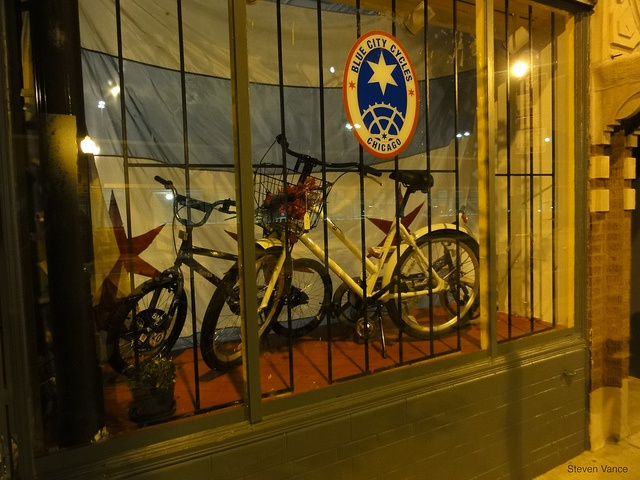non-vehicle: (213, 135, 481, 370), (107, 175, 239, 378)
